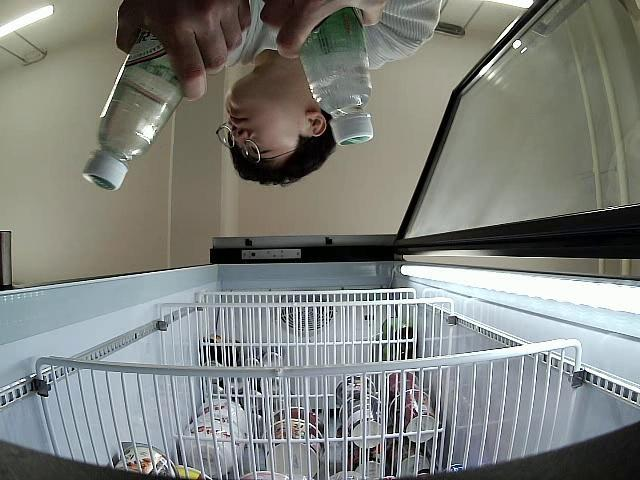18_trevi: (83, 23, 182, 190), (302, 6, 374, 146)
